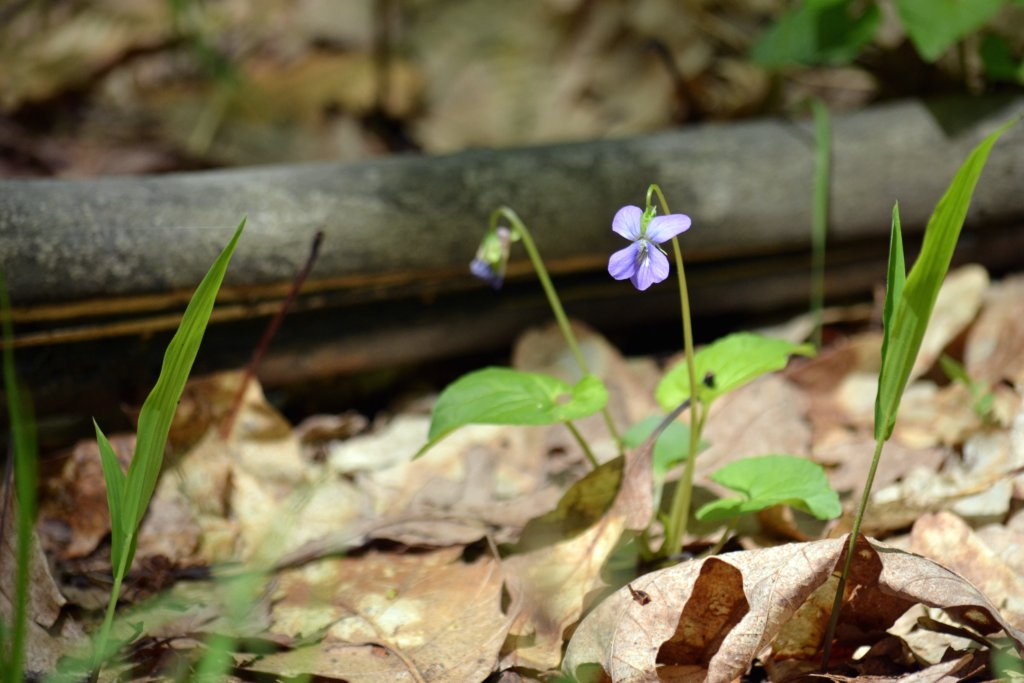violet: (603, 198, 691, 293)
